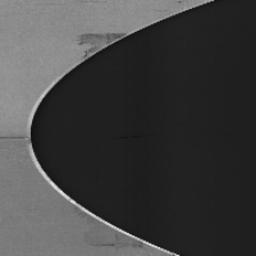Crescent gap: (31, 2, 211, 254)
